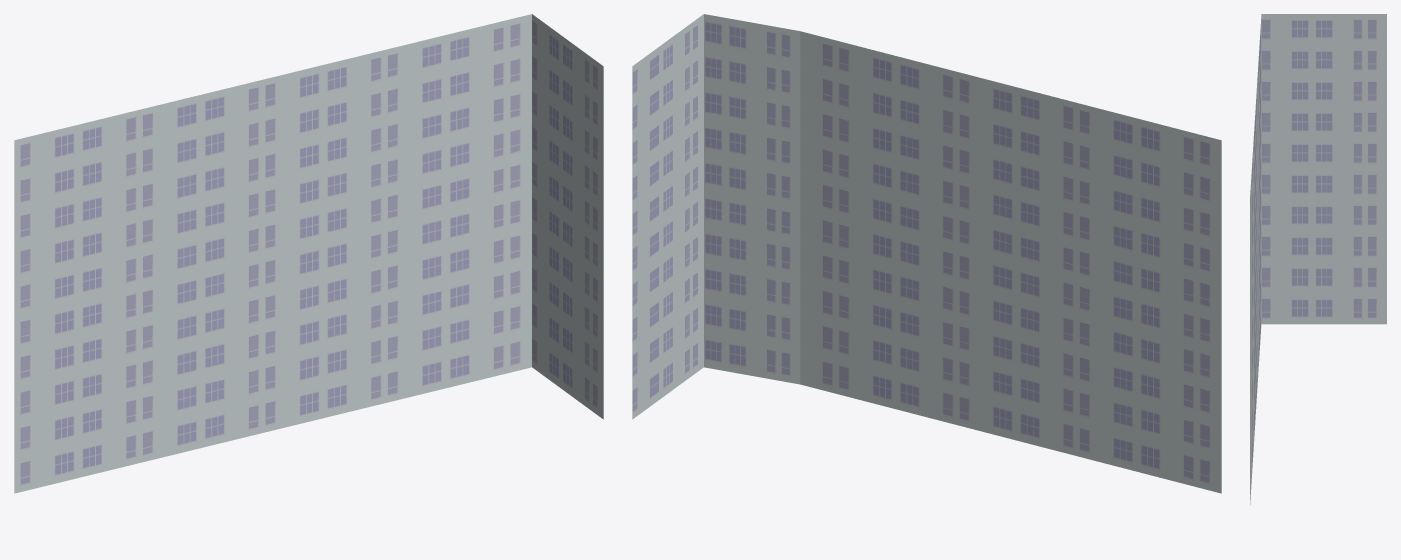
Rendered from testui8.gltf.
The picture shows the model from 3 angles, left to right: view 1: azimuth 30°, elevation 25°; view 2: azimuth 150°, elevation 25°; view 3: azimuth 270°, elevation 25°; orthographic projection. The views are drawn at different scales.
Bounding box in the file's own units: 46 × 30 × 12.
2 materials, 2 textured.
